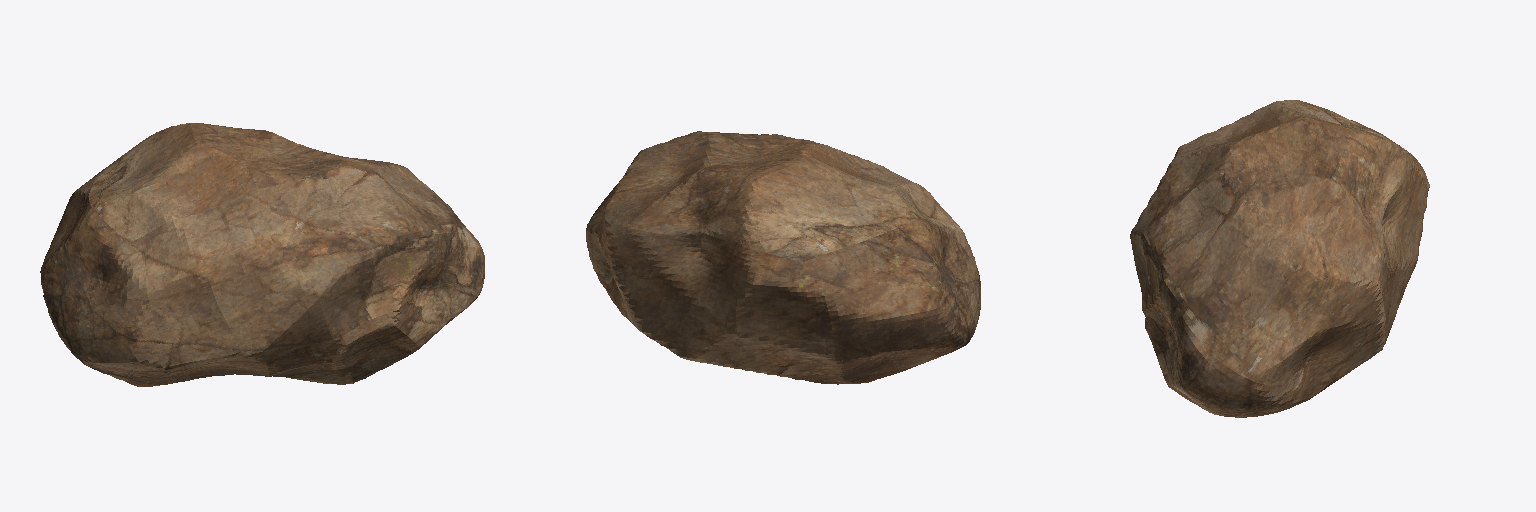
3 views of the same model, side by side, from view 1: azimuth 30°, elevation 25°; view 2: azimuth 150°, elevation 25°; view 3: azimuth 270°, elevation 25° (orthographic).
Parts seen in each view (by area): view 1: rock5; view 2: rock5; view 3: rock5.
Boxes of the visible parts, <box> form: rock5: <box>40,123,484,386</box>; rock5: <box>586,131,980,384</box>; rock5: <box>1130,100,1429,417</box>.
Bounding box in the file's own units: 43.8 × 24.69 × 29.02.
Materials: 1 (1 with a texture image).